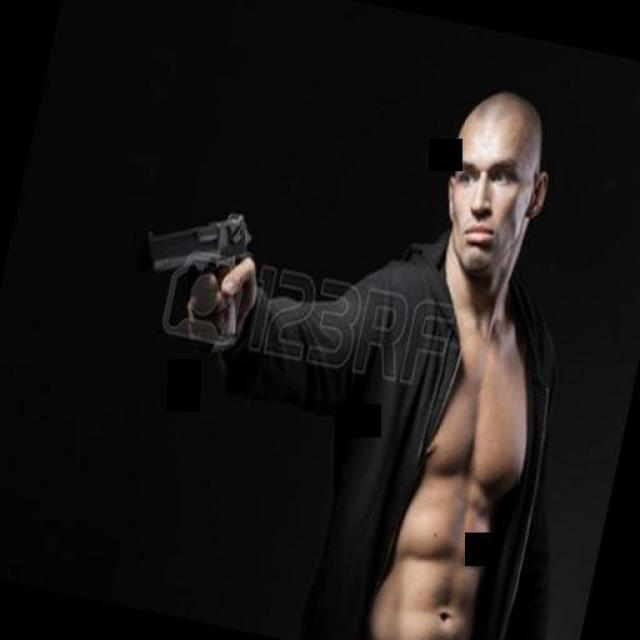gun: (125, 189, 263, 350)
